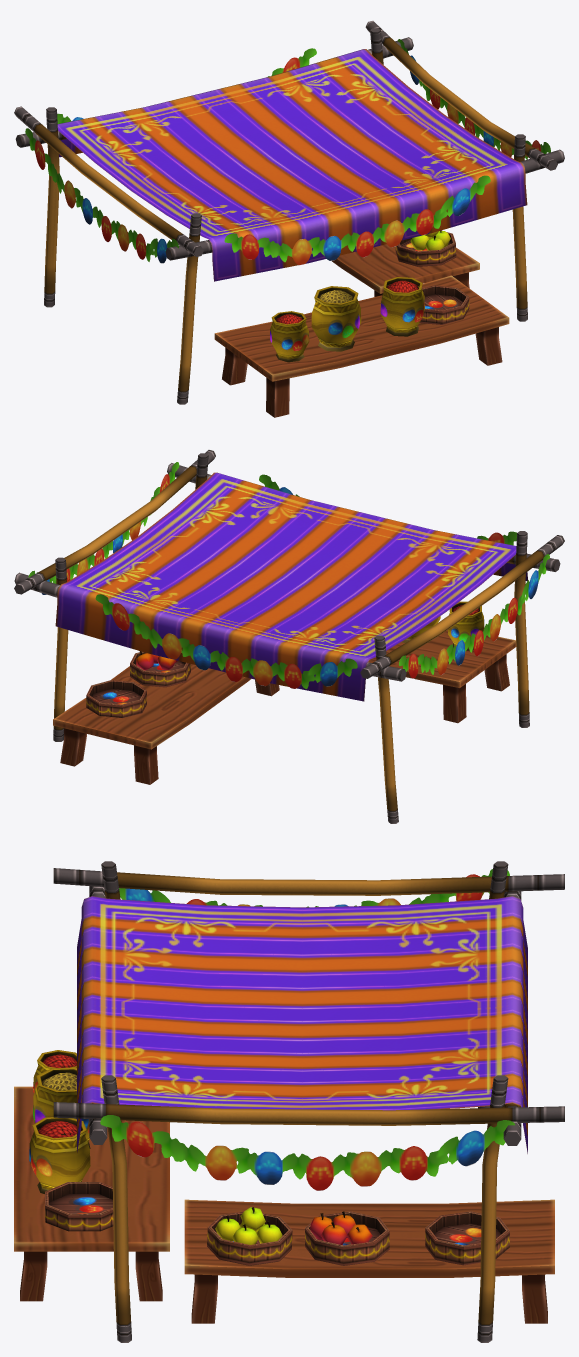
Rendered from Market_02_Deco.FBX.
3 views of the same model, one above another, from view 1: azimuth 30°, elevation 25°; view 2: azimuth 150°, elevation 25°; view 3: azimuth 270°, elevation 25° (orthographic). The views are drawn at different scales.
Visible parts, largest first — view 1: Market_02_Deco; view 2: Market_02_Deco; view 3: Market_02_Deco.
Part boxes in pixels (x1,y1,x2,y2): Market_02_Deco: [14, 21, 564, 417]; Market_02_Deco: [14, 450, 564, 823]; Market_02_Deco: [14, 861, 564, 1342].
Size of the model in its own units: 1.71 by 0.7863 by 1.53.
